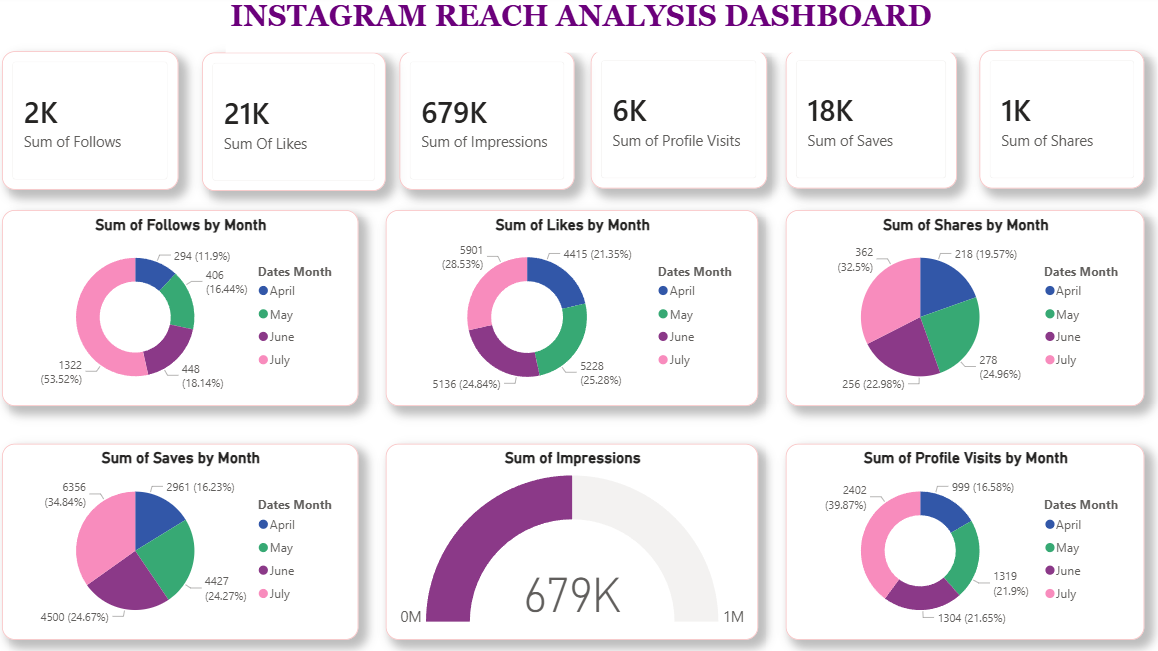

What the dashboard file says about the page in this screenshot:
{"tool":"powerbi","page":{"name":"Page 1","canvas":[1280,720],"ordinal":0},"visuals":[{"type":"cardVisual","fields":{"Data":["Sum(INSTAGRAM DATASET.Likes)"]},"box":[230.5,63.4,201.7,152.3],"z":0},{"type":"cardVisual","fields":{"Data":["Sum(INSTAGRAM DATASET.Impressions)"]},"box":[447.3,62,192.1,152.3],"z":1000},{"type":"cardVisual","fields":{"Data":["Sum(INSTAGRAM DATASET.Profile Visits)"]},"box":[657.3,60.7,193.5,152.3],"z":2000},{"type":"cardVisual","fields":{"Data":["Sum(INSTAGRAM DATASET.Saves)"]},"box":[871.4,60.7,188,152.3],"z":3000},{"type":"cardVisual","fields":{"Data":["Sum(INSTAGRAM DATASET.Follows)"]},"box":[11,62,193.5,152.3],"z":4000},{"type":"cardVisual","fields":{"Data":["Sum(INSTAGRAM DATASET.Shares)"]},"box":[1084.1,60.7,181.1,152.3],"z":5000},{"type":"donutChart","fields":{"Category":["INSTAGRAM DATASET.Dates.Variation.Date Hierarchy.Month"],"Y":["Sum(INSTAGRAM DATASET.Follows)"]},"box":[11,236.3,391.1,215.4],"z":6000},{"type":"donutChart","fields":{"Category":["INSTAGRAM DATASET.Dates.Variation.Date Hierarchy.Month"],"Y":["Sum(INSTAGRAM DATASET.Likes)"]},"box":[432.2,236.3,408.9,215.4],"z":7000},{"type":"pieChart","fields":{"Category":["INSTAGRAM DATASET.Dates.Variation.Date Hierarchy.Month"],"Y":["Sum(INSTAGRAM DATASET.Shares)"]},"box":[871.4,236.3,393.8,215.4],"z":8000},{"type":"pieChart","fields":{"Category":["INSTAGRAM DATASET.Dates.Variation.Date Hierarchy.Month"],"Y":["Sum(INSTAGRAM DATASET.Saves)"]},"box":[11,492.9,391.1,215.4],"z":9000},{"type":"gauge","fields":{"Y":["Sum(INSTAGRAM DATASET.Impressions)"]},"box":[432.2,492.9,408.9,215.4],"z":9002},{"type":"donutChart","fields":{"Category":["INSTAGRAM DATASET.Dates.Variation.Date Hierarchy.Month"],"Y":["Sum(INSTAGRAM DATASET.Profile Visits)"]},"box":[871.4,492.9,393.8,215.4],"z":9003},{"type":"textbox","box":[256.6,0,812.4,63.1],"z":9004}]}

Visuals, with their boxes in screenshot pixels (x1, y1, x2, y2), scaled from the page's 1280x720 canvas onto the 1158x651 screenshot:
cardVisual - Sum(INSTAGRAM DATASET.Likes): <bbox>209, 57, 391, 195</bbox>
cardVisual - Sum(INSTAGRAM DATASET.Impressions): <bbox>405, 56, 578, 194</bbox>
cardVisual - Sum(INSTAGRAM DATASET.Profile Visits): <bbox>595, 55, 770, 193</bbox>
cardVisual - Sum(INSTAGRAM DATASET.Saves): <bbox>788, 55, 958, 193</bbox>
cardVisual - Sum(INSTAGRAM DATASET.Follows): <bbox>10, 56, 185, 194</bbox>
cardVisual - Sum(INSTAGRAM DATASET.Shares): <bbox>981, 55, 1145, 193</bbox>
donutChart - INSTAGRAM DATASET.Dates.Variation.Date Hierarchy.Month x Sum(INSTAGRAM DATASET.Follows): <bbox>10, 214, 364, 408</bbox>
donutChart - INSTAGRAM DATASET.Dates.Variation.Date Hierarchy.Month x Sum(INSTAGRAM DATASET.Likes): <bbox>391, 214, 761, 408</bbox>
pieChart - INSTAGRAM DATASET.Dates.Variation.Date Hierarchy.Month x Sum(INSTAGRAM DATASET.Shares): <bbox>788, 214, 1145, 408</bbox>
pieChart - INSTAGRAM DATASET.Dates.Variation.Date Hierarchy.Month x Sum(INSTAGRAM DATASET.Saves): <bbox>10, 446, 364, 640</bbox>
gauge - Sum(INSTAGRAM DATASET.Impressions): <bbox>391, 446, 761, 640</bbox>
donutChart - INSTAGRAM DATASET.Dates.Variation.Date Hierarchy.Month x Sum(INSTAGRAM DATASET.Profile Visits): <bbox>788, 446, 1145, 640</bbox>
textbox: <bbox>232, 0, 967, 57</bbox>
